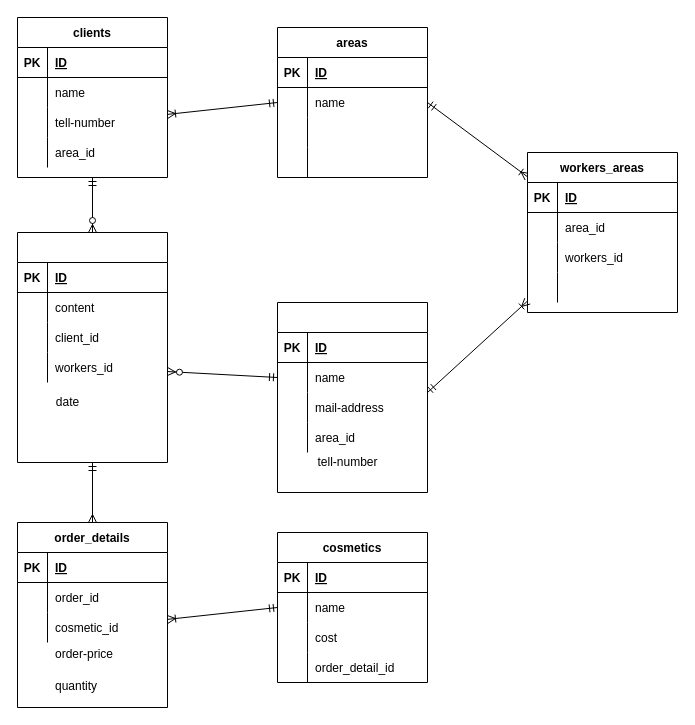
This 695x725 diagram has some shape labels left out. Here are the shapes that lost their labels. From the top down, the box of each, then its label:
(16, 232, 168, 462): orders
(276, 302, 428, 492): workers
